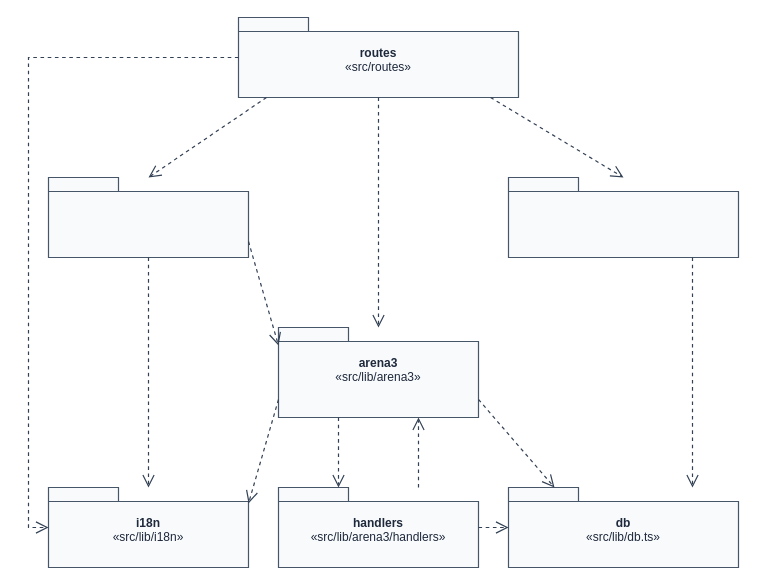
The diagram is 757 pixels wide and 586 high, and some of its shapes have lost their labels. The centre of each missing label's shape, as x and y in pixels:
"auth «src/lib/auth»" belongs at pixel 623 217.
"components «src/components»" belongs at pixel 148 217.
